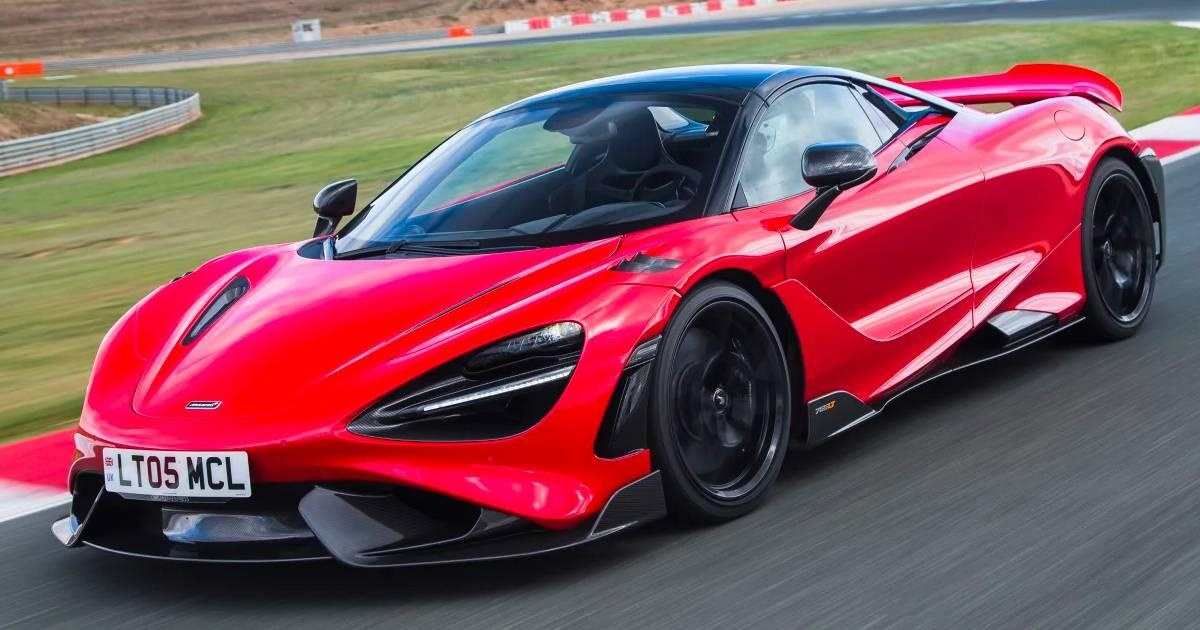plate: (106, 448, 254, 502)
